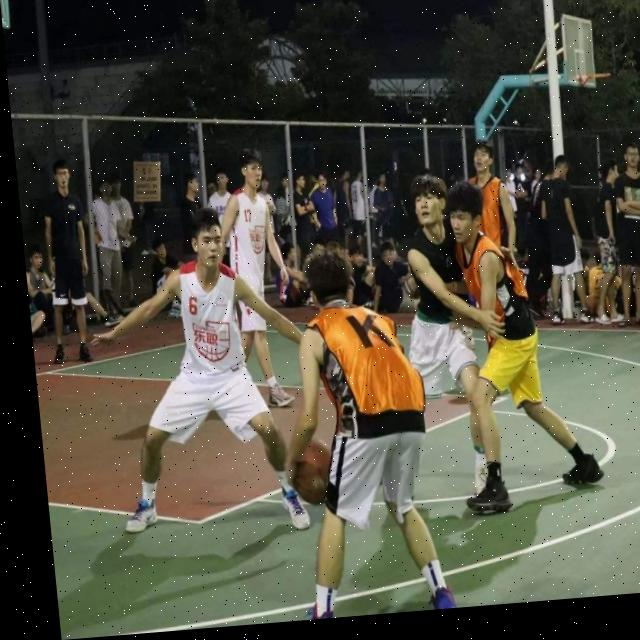basketball: (282, 427, 343, 510)
hoop: (588, 70, 614, 91)
